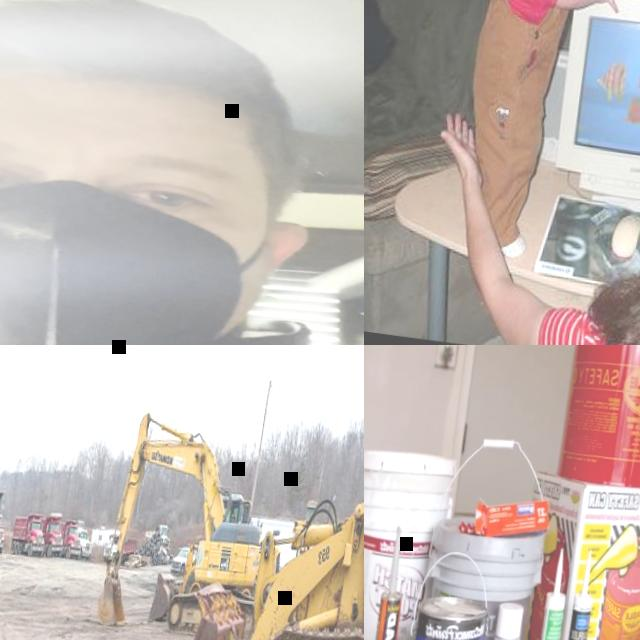Hardhat: (191, 546, 194, 550)
Mask: (0, 173, 278, 345)
NO-Hardhat: (0, 0, 315, 142)
NO-Safety Vest: (474, 0, 585, 101), (539, 298, 640, 345)
Person: (0, 0, 364, 345), (425, 0, 640, 268), (411, 108, 640, 345), (183, 545, 195, 585)
Safety Vest: (187, 553, 193, 567)
vehicle: (144, 345, 364, 640), (95, 409, 298, 640), (10, 510, 48, 559), (36, 510, 67, 560), (103, 531, 139, 569), (56, 519, 85, 561), (171, 541, 200, 577), (72, 519, 96, 559), (144, 523, 173, 553), (0, 489, 12, 554)
